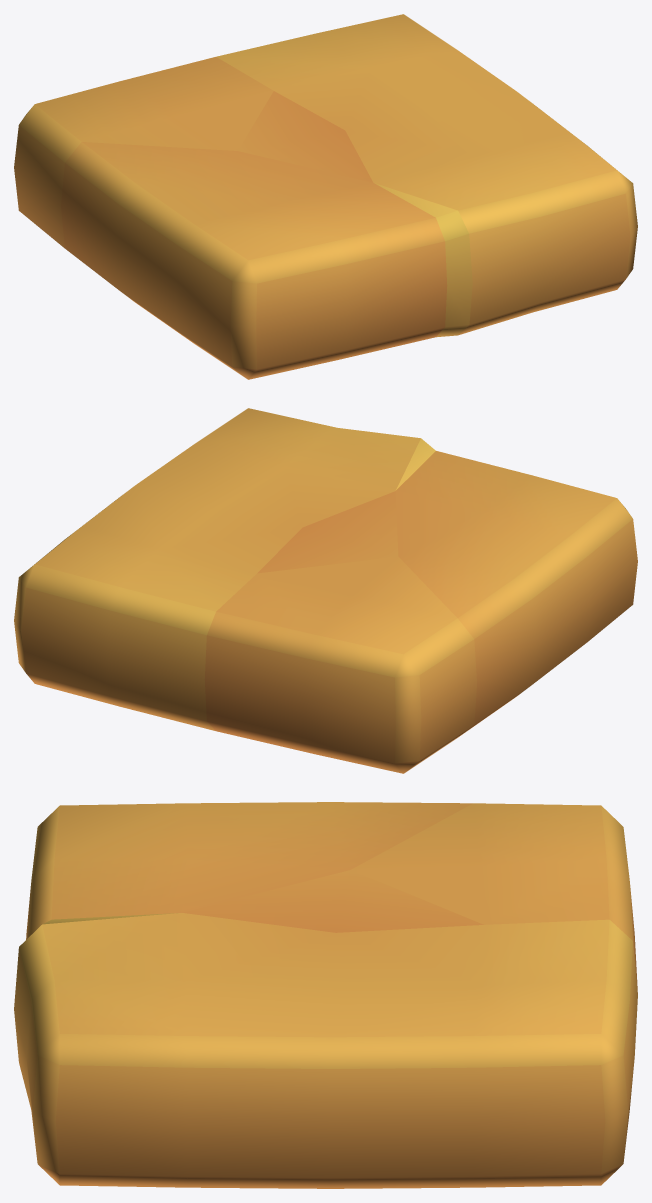
File: cube_05_alt.fbx
The picture shows the model from 3 angles, top to bottom: view 1: azimuth 30°, elevation 25°; view 2: azimuth 150°, elevation 25°; view 3: azimuth 270°, elevation 25°; orthographic projection. The views are drawn at different scales.
Parts seen in each view (by area): view 1: cube_05_alt; view 2: cube_05_alt; view 3: cube_05_alt.
Part boxes in pixels (bbox=[...]): cube_05_alt: bbox=[14, 14, 637, 379]; cube_05_alt: bbox=[14, 408, 637, 773]; cube_05_alt: bbox=[14, 802, 637, 1188].
Bounding box in the file's own units: 214 × 60.78 × 217.
